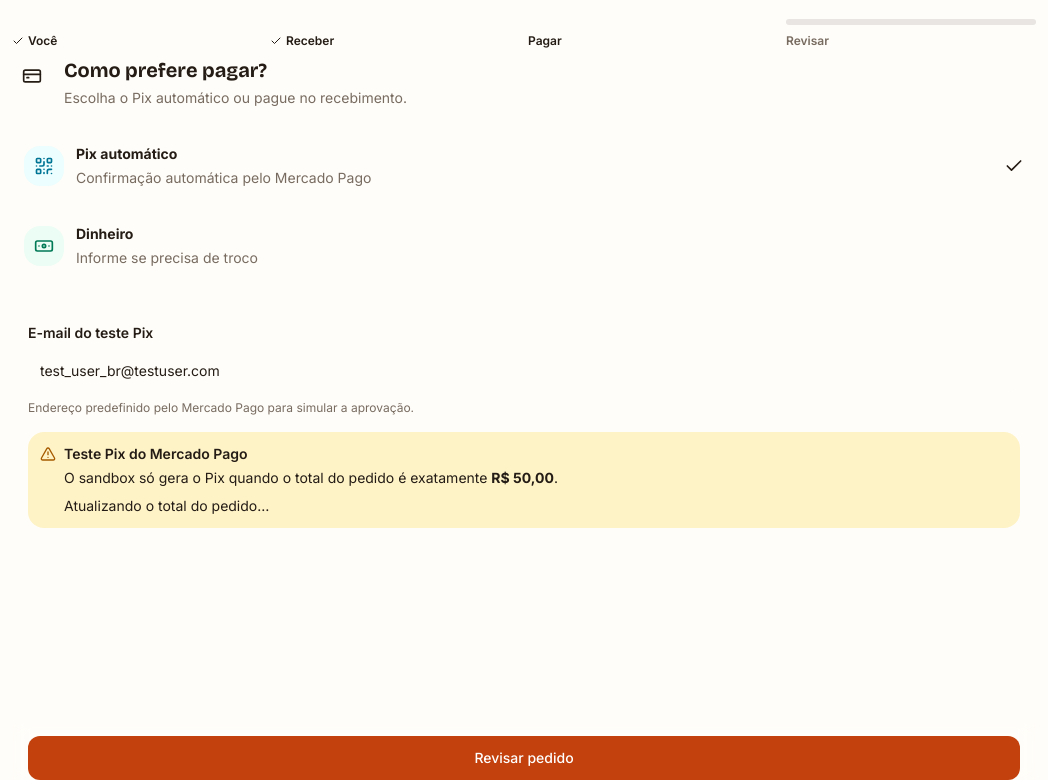
Test case: checkout público v2 › bloqueia o Pix de sandbox com total diferente de R$ 50,00 antes de criar o pedido
The width and height of the screenshot is (1048, 780).
What coordinates should you click on to do the following:
click the button "Revisar pedido"
I would click on:
 (524, 758)
Its box is [28,736,1020,779].
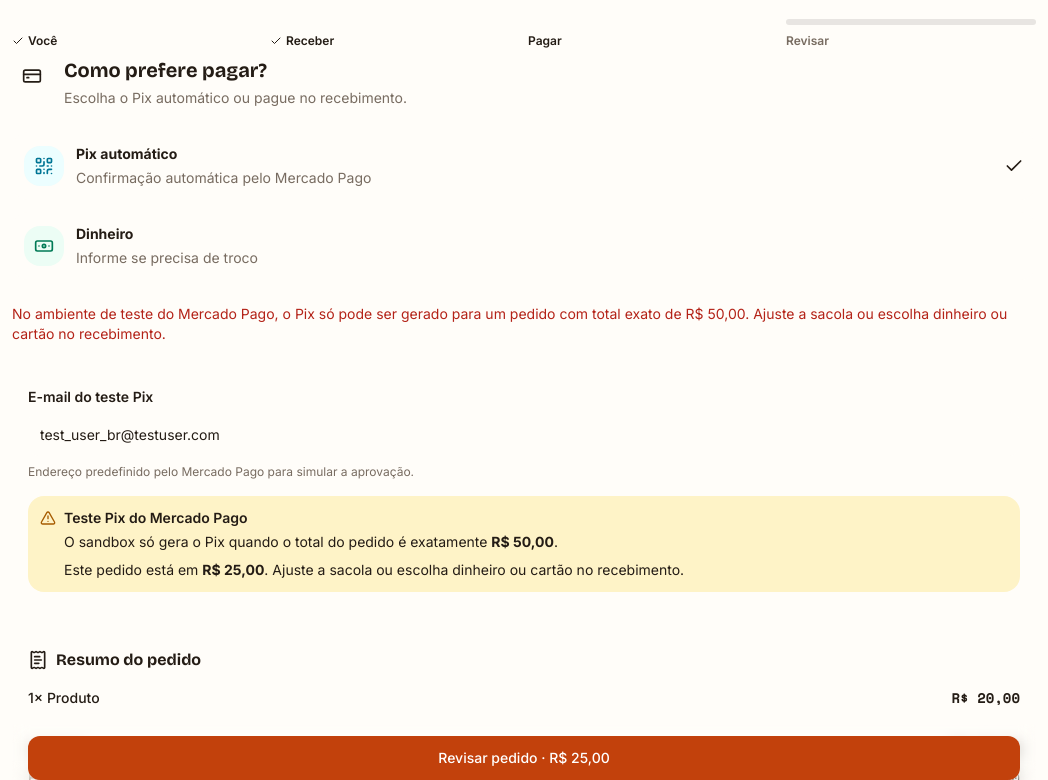
Expected: the message shows "total exato de R$ 50,00", [12,305,1007,342]
